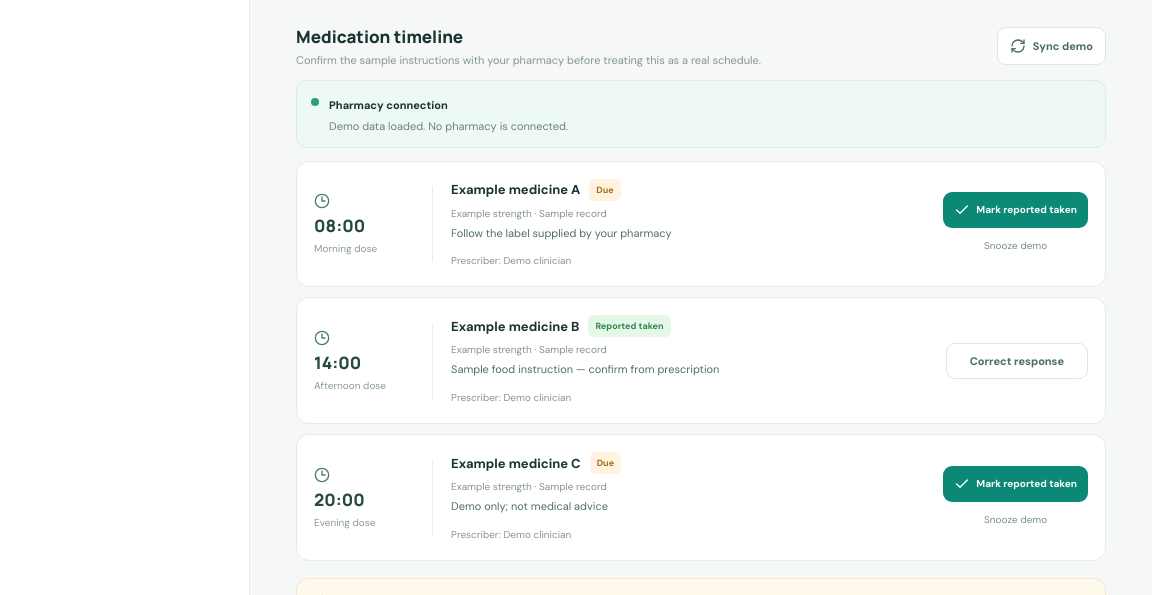
demo medication dashboard › records corrections as no response and updates the summary
The image size is (1152, 595).
(page scrolled)
What coordinates should you click on to do the following:
click the button "Correct response"
I would click on:
 (1017, 361)
Its box is [946,343,1088,379].
(page scrolled)
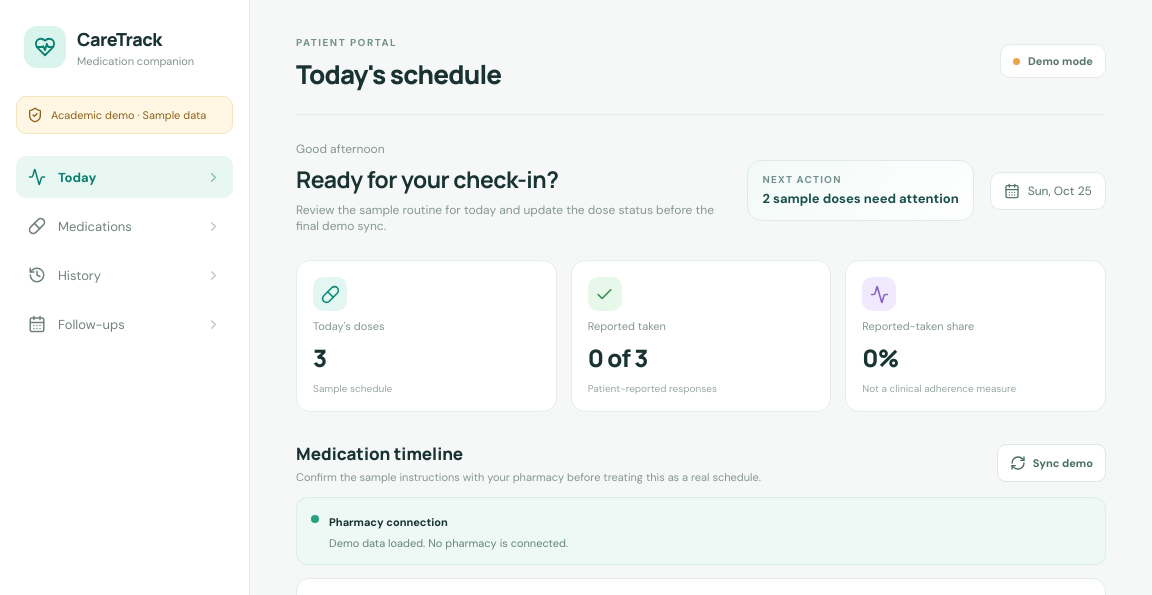
Expected: the text "0 of 3" is shown, [588,341,648,374]
Expected: the text "0%" is shown, [862,341,899,374]
What coordinates should you click on to do the following:
click the button "History"
I would click on:
 (124, 275)
Its box is [16,254,233,296].
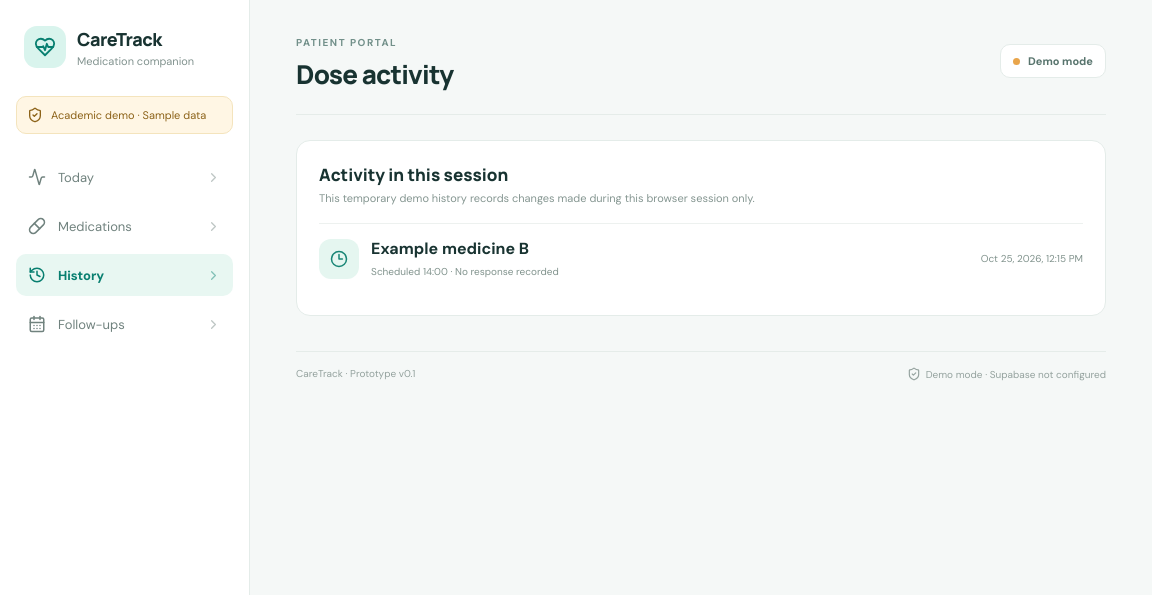
Expected: the text "Scheduled 14:00 · No response recorded" is shown, [371,265,559,278]
